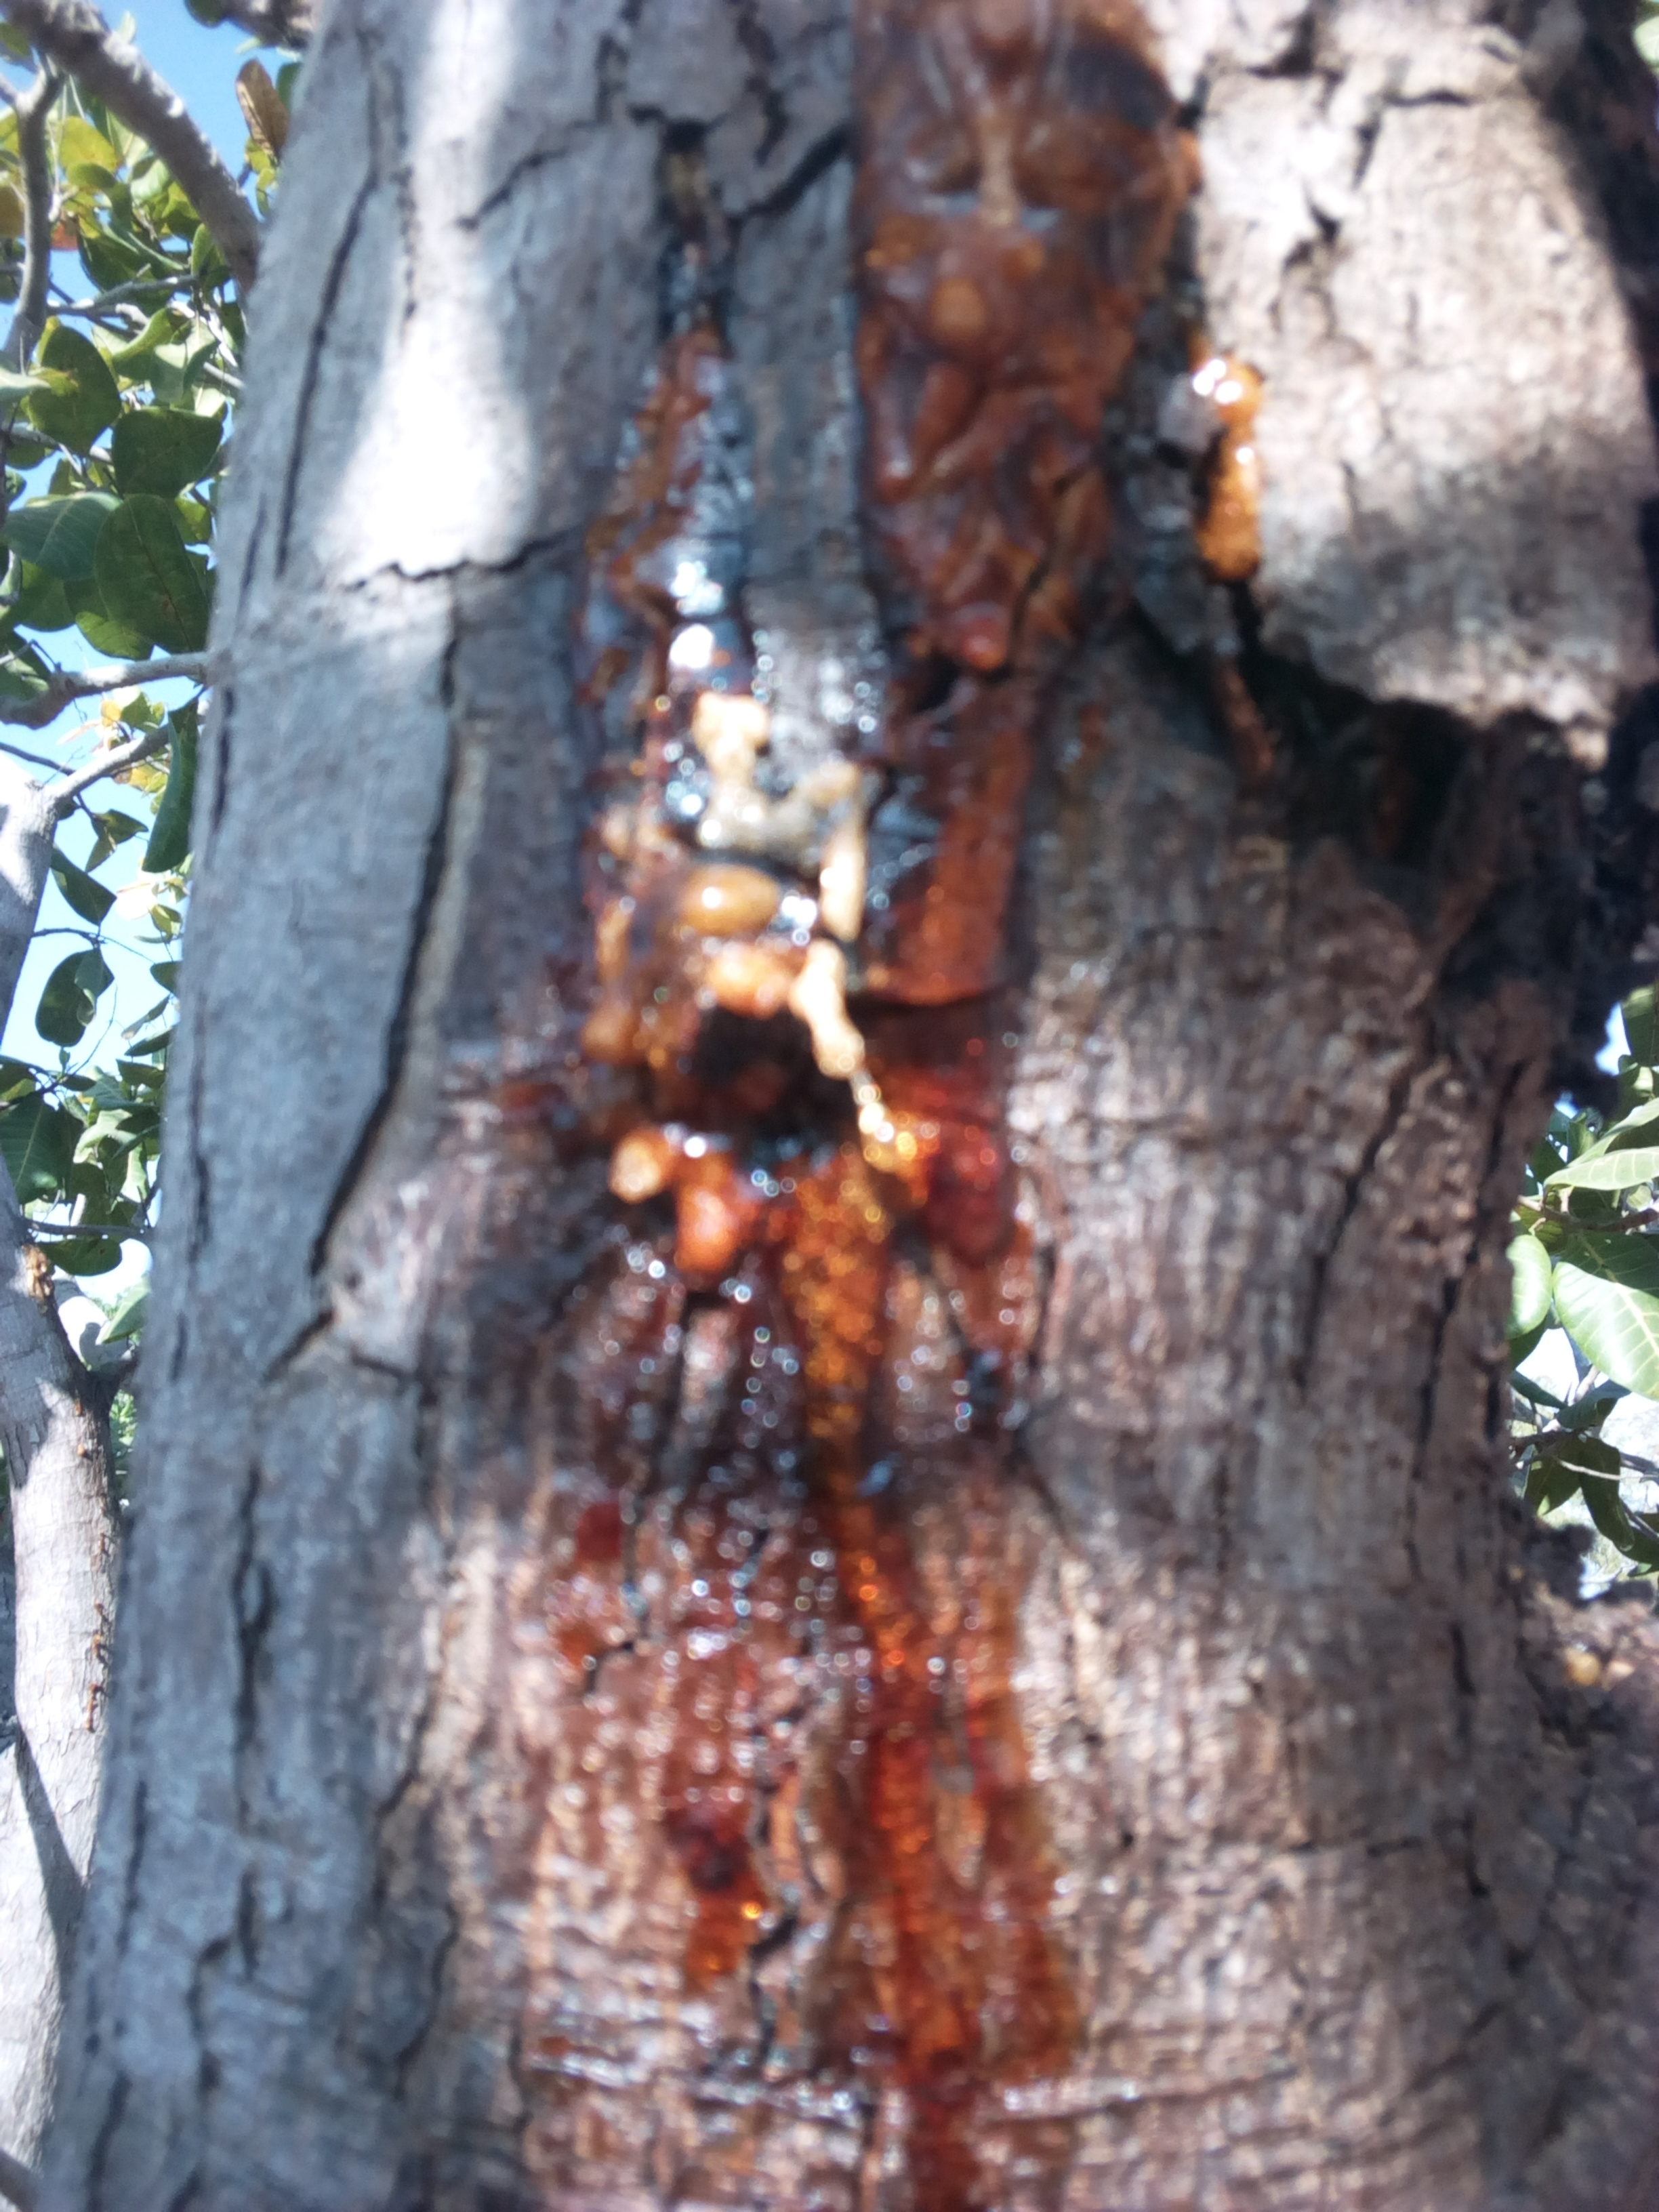Gommose: (589, 16, 1192, 2203)
